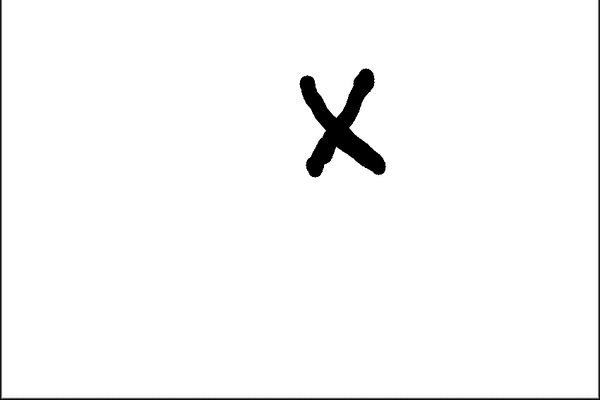X: (264, 55, 396, 187)
